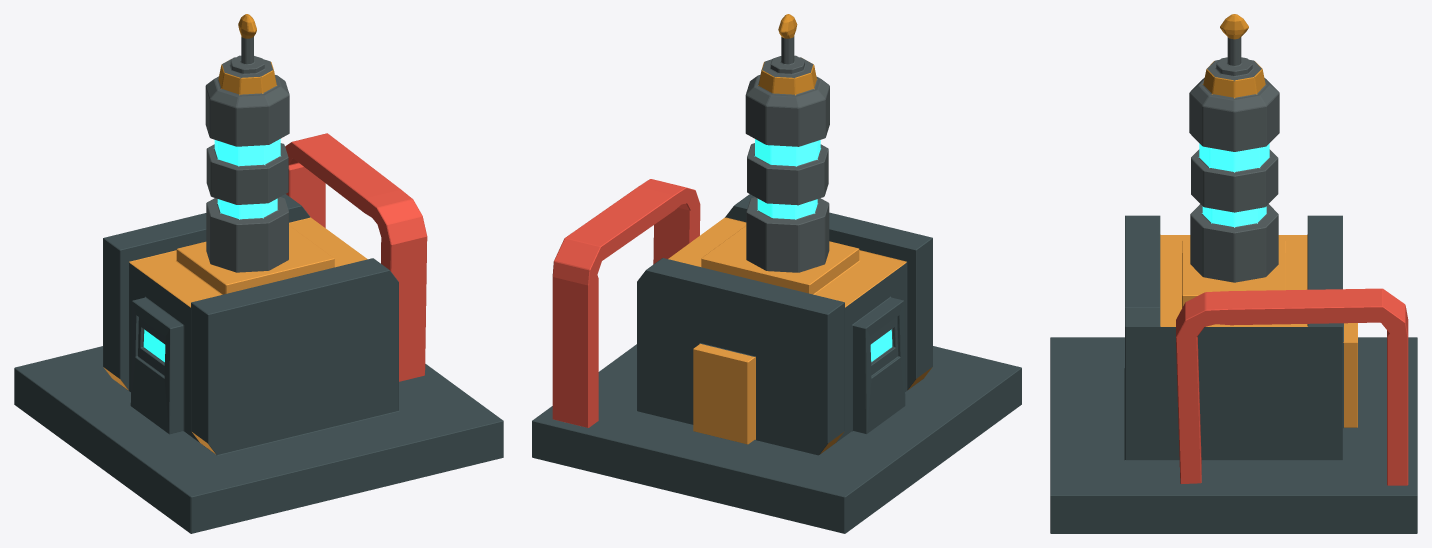
Rendered from machine2.fbx.
3 renders of one model, left to right at view 1: azimuth 30°, elevation 25°; view 2: azimuth 150°, elevation 25°; view 3: azimuth 270°, elevation 25°, orthographic. The views are drawn at different scales.
Parts seen in each view (by area): view 1: Cube.003; view 2: Cube.003; view 3: Cube.003.
Boxes of the visible parts, x1=… form: Cube.003: x1=14, y1=14, x2=503, y2=533; Cube.003: x1=532, y1=14, x2=1021, y2=533; Cube.003: x1=1050, y1=14, x2=1417, y2=533.
Bounding box in the file's own units: 1208 × 1544 × 1183.
